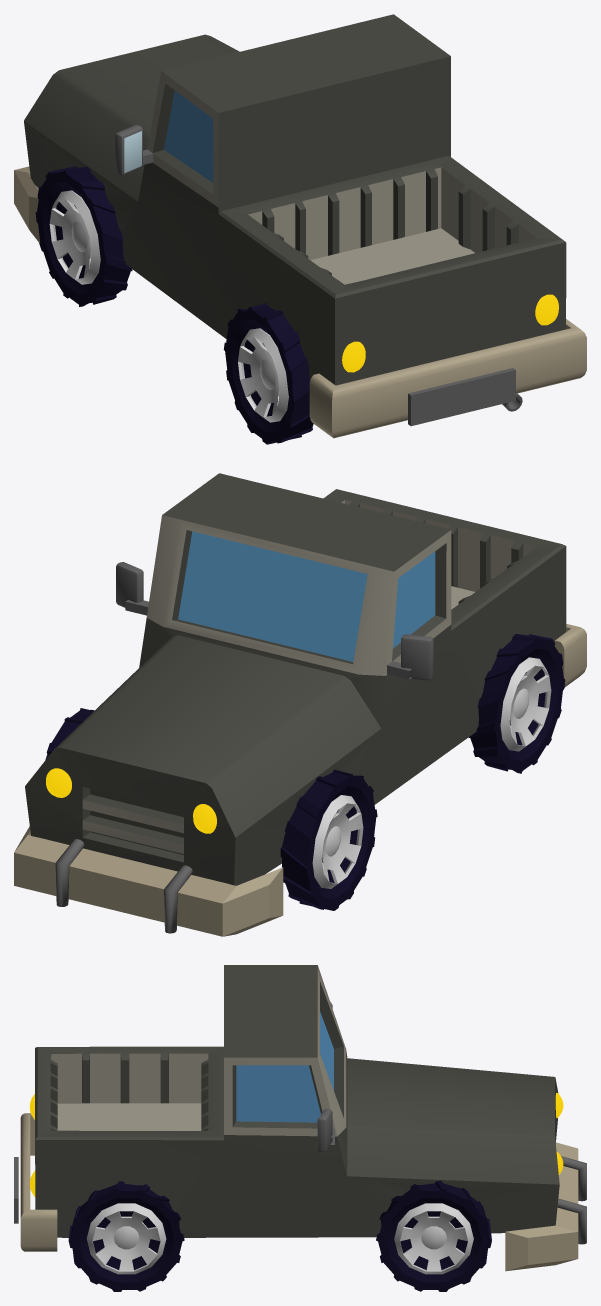
The model's file is Car_Pickup_1.glb.
3 views of the same model, one above another, from view 1: azimuth 30°, elevation 25°; view 2: azimuth 150°, elevation 25°; view 3: azimuth 270°, elevation 25° (orthographic). The views are drawn at different scales.
Visible parts, largest first — view 1: Cube.5474, Cylinder.408, Cube.5478, Cylinder.409, Cube.5479, Cube.5477, Cube.5475, Sphere.137; view 2: Cube.5474, Cylinder.408, Cube.5477, Cylinder.409, Cube.5475, Plane.126, Cube.5478, Sphere.136, Cube.5476; view 3: Cube.5474, Cylinder.408, Cylinder.409, Cube.5477, Cube.5478, Plane.126, Cube.5475.
Part boxes in pixels (<box>): Cube.5474: <box>24,14,566,385</box>; Cylinder.408: <box>35,166,313,444</box>; Cube.5478: <box>309,319,586,438</box>; Cylinder.409: <box>49,190,288,422</box>; Cube.5479: <box>408,368,515,426</box>; Cube.5477: <box>14,166,39,242</box>; Cube.5475: <box>115,125,142,175</box>; Sphere.137: <box>342,294,558,372</box>; Cube.5474: <box>25,473,566,885</box>; Cylinder.408: <box>45,634,565,910</box>; Cube.5477: <box>14,826,283,936</box>; Cylinder.409: <box>312,657,551,888</box>; Cube.5475: <box>116,562,433,680</box>; Plane.126: <box>55,839,192,933</box>; Cube.5478: <box>554,624,586,687</box>; Sphere.136: <box>46,768,216,833</box>; Cube.5476: <box>125,599,411,679</box>; Cube.5474: <box>35,965,559,1237</box>; Cylinder.408: <box>68,1180,491,1291</box>; Cylinder.409: <box>86,1203,473,1274</box>; Cube.5477: <box>505,1142,578,1271</box>; Cube.5478: <box>20,1113,57,1251</box>; Plane.126: <box>557,1156,586,1244</box>; Cube.5475: <box>317,1001,332,1151</box>.
Bounding box in the file's own units: 2.55 × 2.14 × 4.9.
